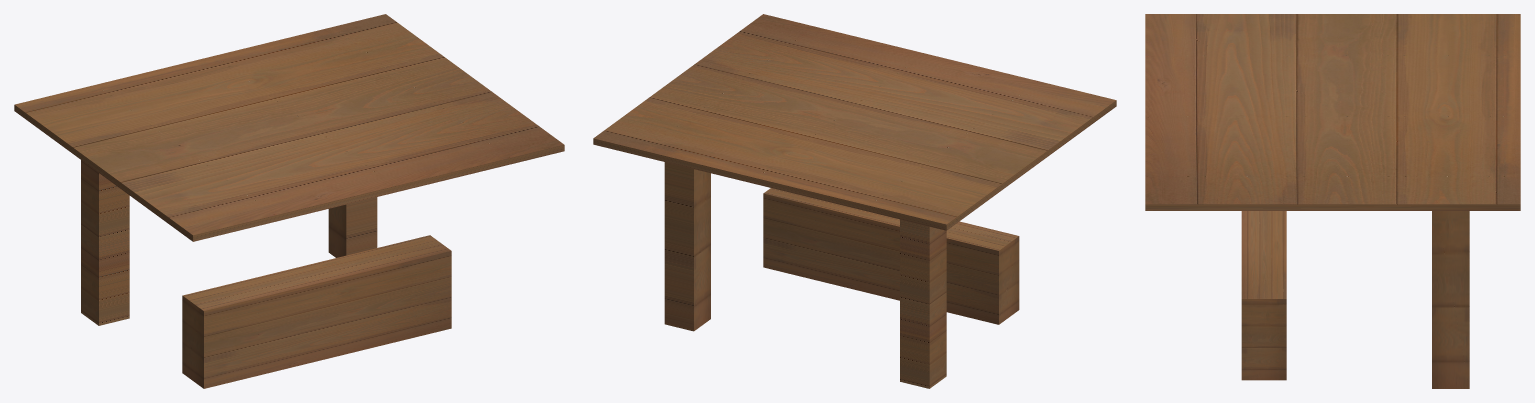
The model's file is roten.FBX.
The picture shows the model from 3 angles, left to right: view 1: azimuth 30°, elevation 25°; view 2: azimuth 150°, elevation 25°; view 3: azimuth 270°, elevation 25°; orthographic projection. The views are drawn at different scales.
Visible parts, largest first — view 1: Box004, Box001, Box002, Box003; view 2: Box004, Box001, Box003, Box002; view 3: Box004, Box001, Box003.
Part boxes in pixels (x1,y1,x2,y2): Box004: [14, 14, 564, 241]; Box001: [182, 235, 451, 388]; Box002: [81, 160, 129, 325]; Box003: [328, 197, 377, 257]; Box004: [593, 14, 1116, 230]; Box001: [763, 188, 1019, 324]; Box003: [664, 162, 710, 331]; Box002: [900, 219, 946, 388]; Box004: [1145, 14, 1520, 210]; Box001: [1241, 211, 1286, 380]; Box003: [1432, 211, 1469, 388].
Bounding box in the file's own units: 6 × 3.1 × 5.
